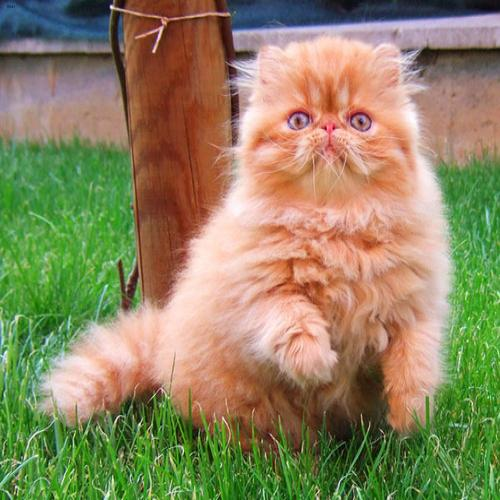persian: (231, 29, 428, 197)
